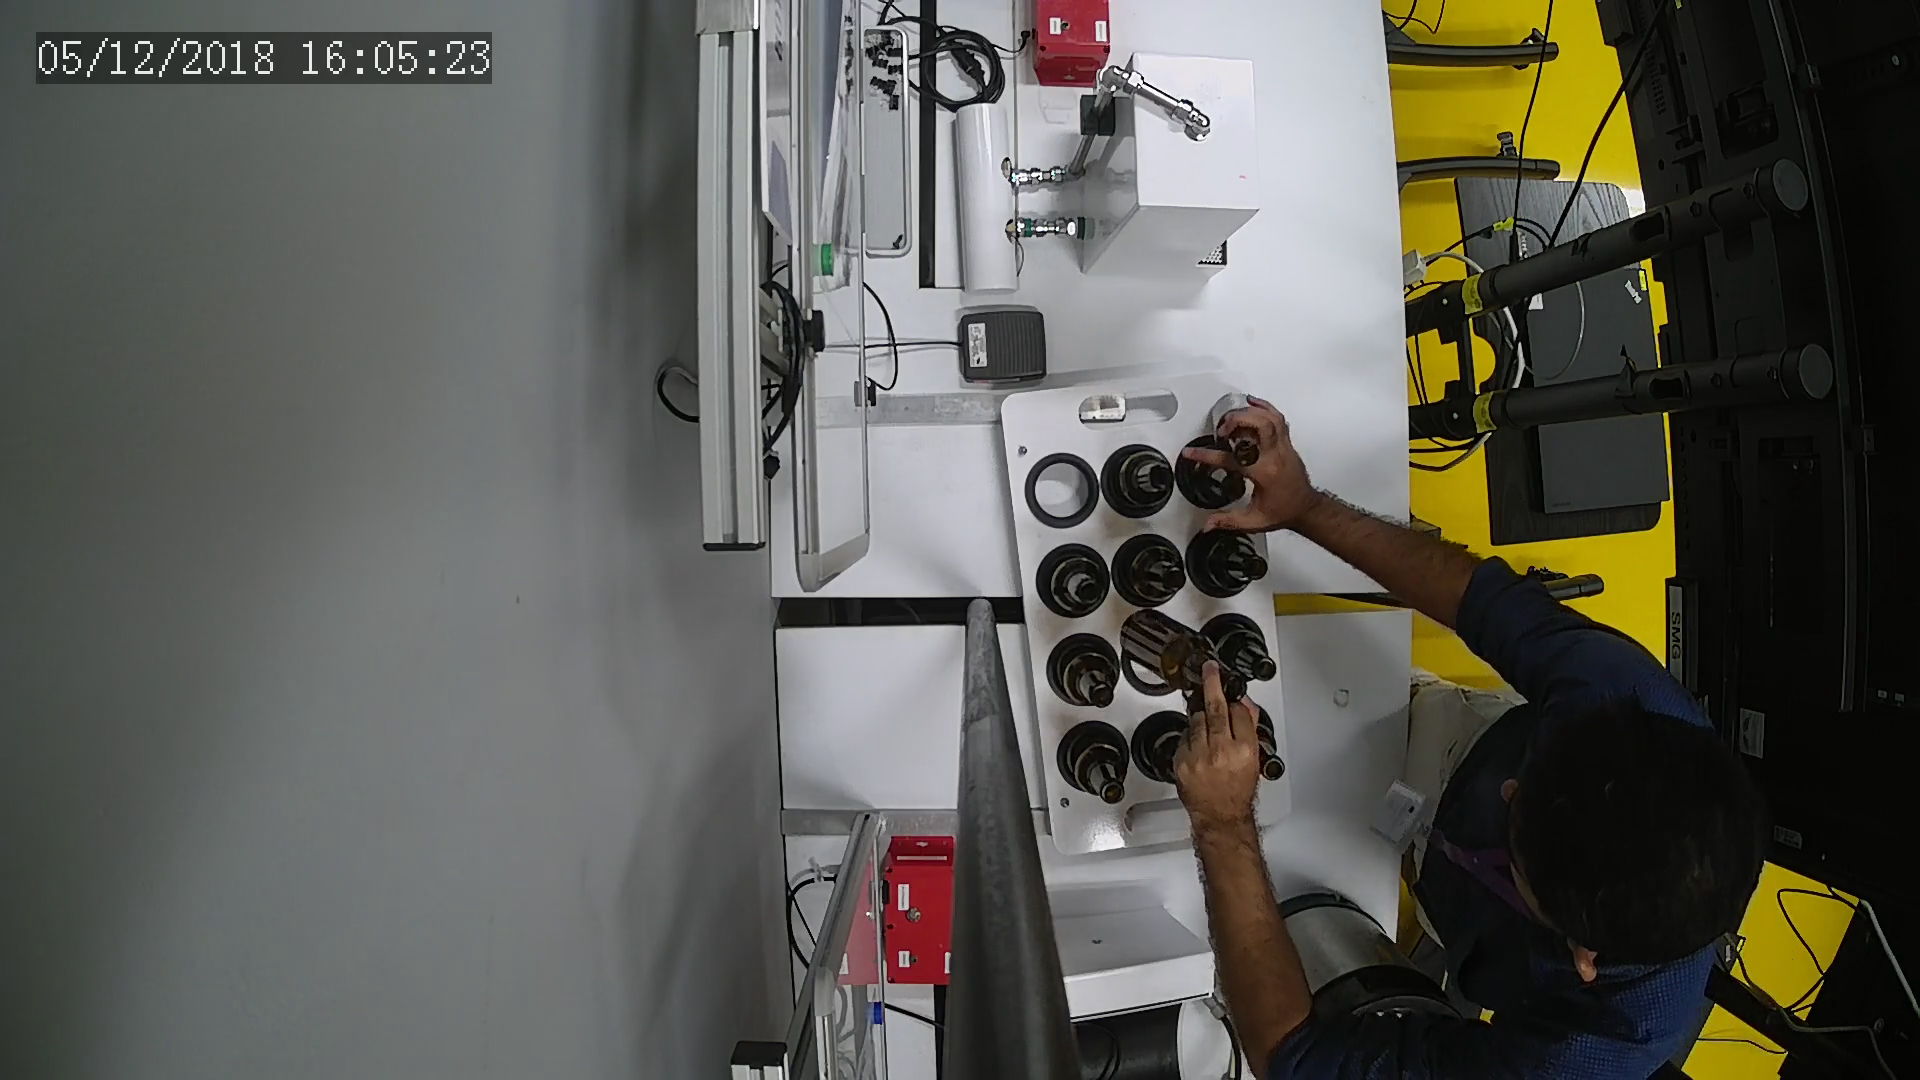filled_bottle: (1051, 713, 1135, 815), (1108, 534, 1191, 609), (1093, 444, 1178, 518), (1187, 527, 1274, 599), (1044, 638, 1126, 713), (1203, 616, 1283, 690), (1036, 545, 1112, 622), (1131, 717, 1191, 785)
trolley: (997, 365, 1294, 868)
